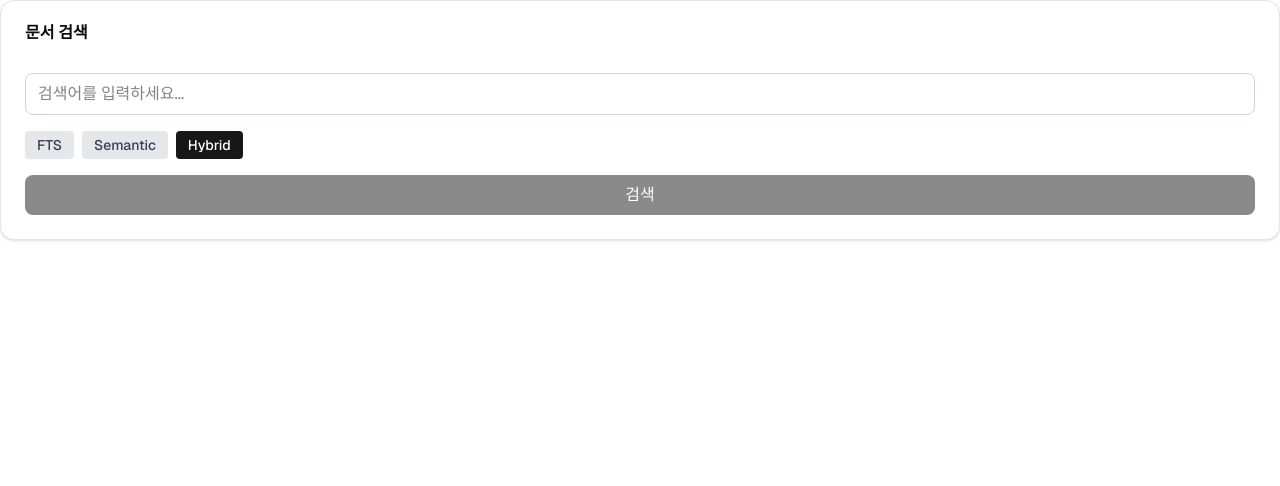
Test: DocumentSearchForm › displays search results with scores
In the field with test id "search-input": (640, 94) [25, 73, 1255, 115], type "test query"
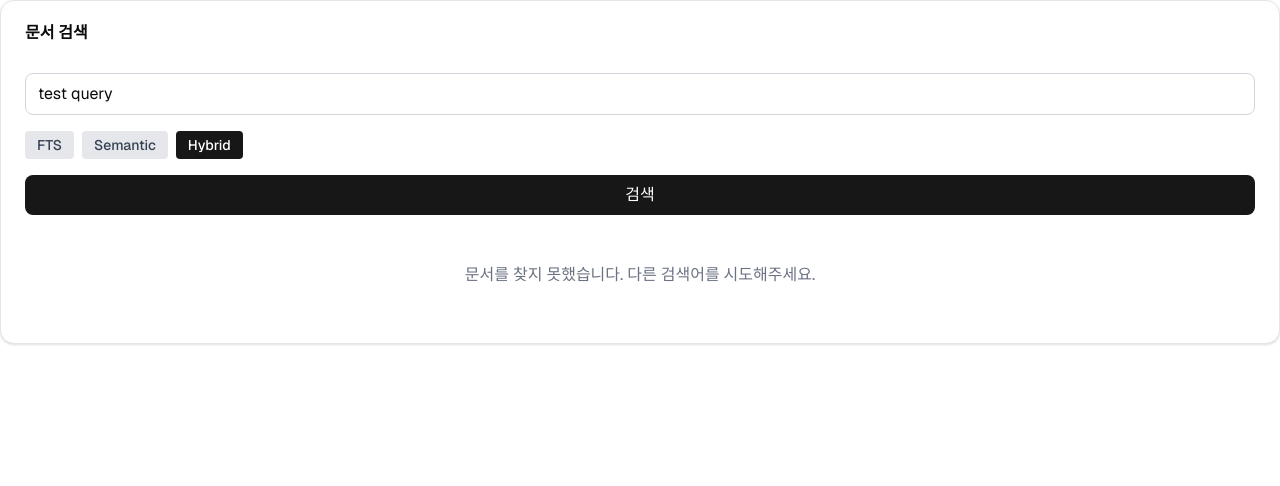
Click the button with test id "search-button": (640, 195) [25, 175, 1255, 215]
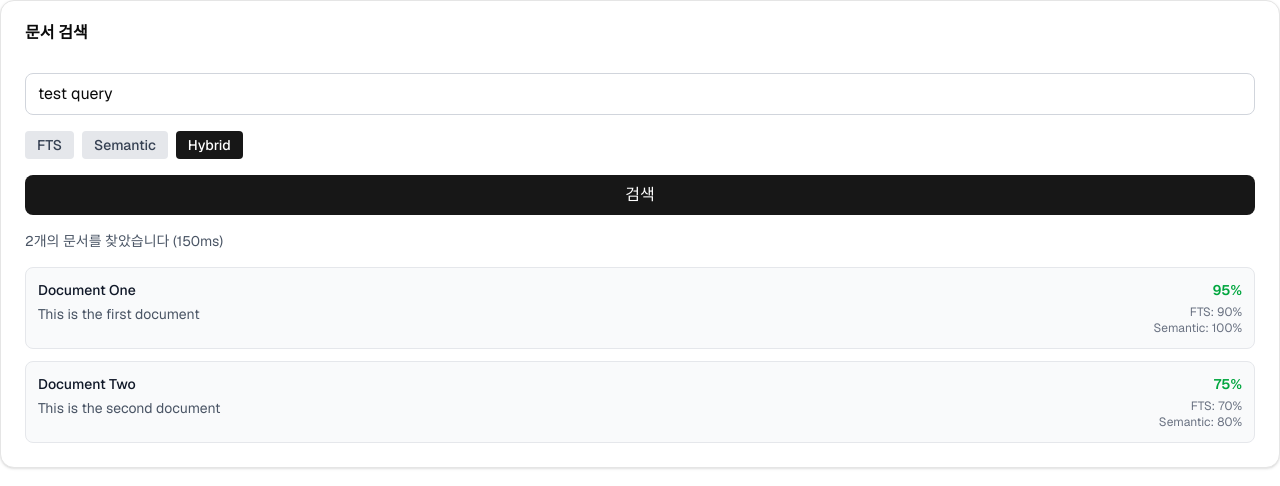
expect the element with test id "results-list" is shown: met, box [25, 267, 1255, 443]
expect the element with test id "result-item-0" is shown: met, box [25, 267, 1255, 349]
expect the text with test id "result-score-0" reads "95%": met, box [1213, 281, 1242, 299]
